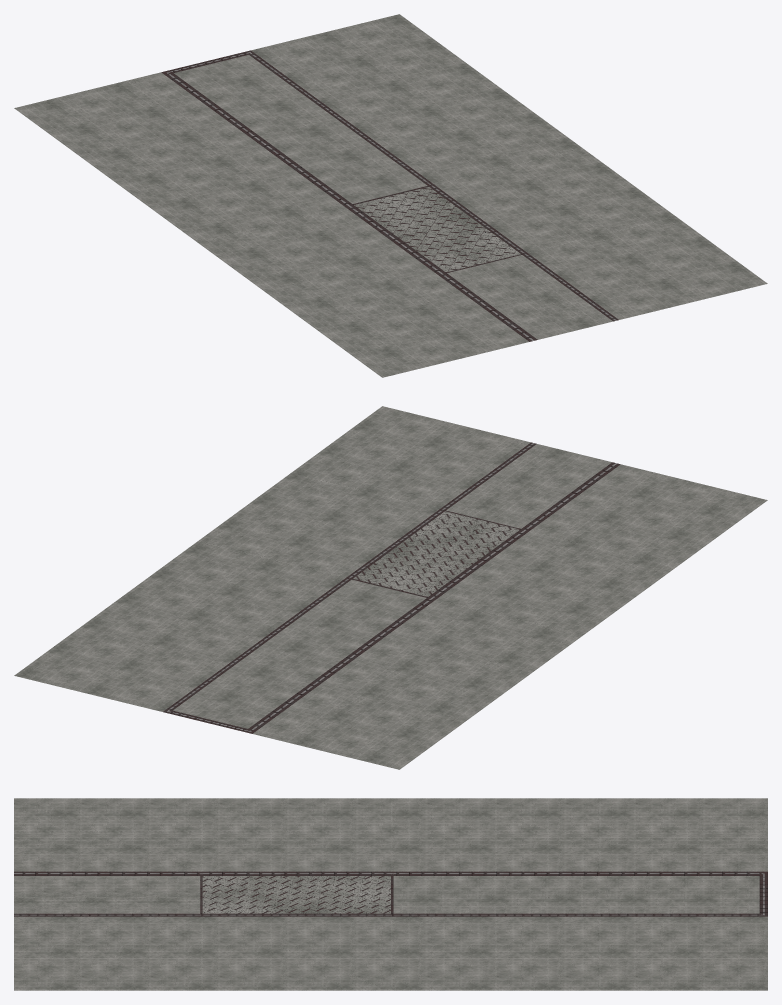
Rendered from Floor.gltf.
The picture shows the model from 3 angles, top to bottom: view 1: azimuth 30°, elevation 25°; view 2: azimuth 150°, elevation 25°; view 3: azimuth 270°, elevation 25°; orthographic projection. The views are drawn at different scales.
Visible parts, largest first — view 1: Floor.001; view 2: Floor.001; view 3: Floor.001.
Part boxes in pixels (left/top/right/bottom): Floor.001: left=14, top=14, right=767, bottom=377; Floor.001: left=14, top=406, right=767, bottom=769; Floor.001: left=14, top=798, right=767, bottom=990.
Bounding box in the file's own units: 26.04 × 1.91e-08 × 43.1.
Materials: 3 (3 with a texture image).
